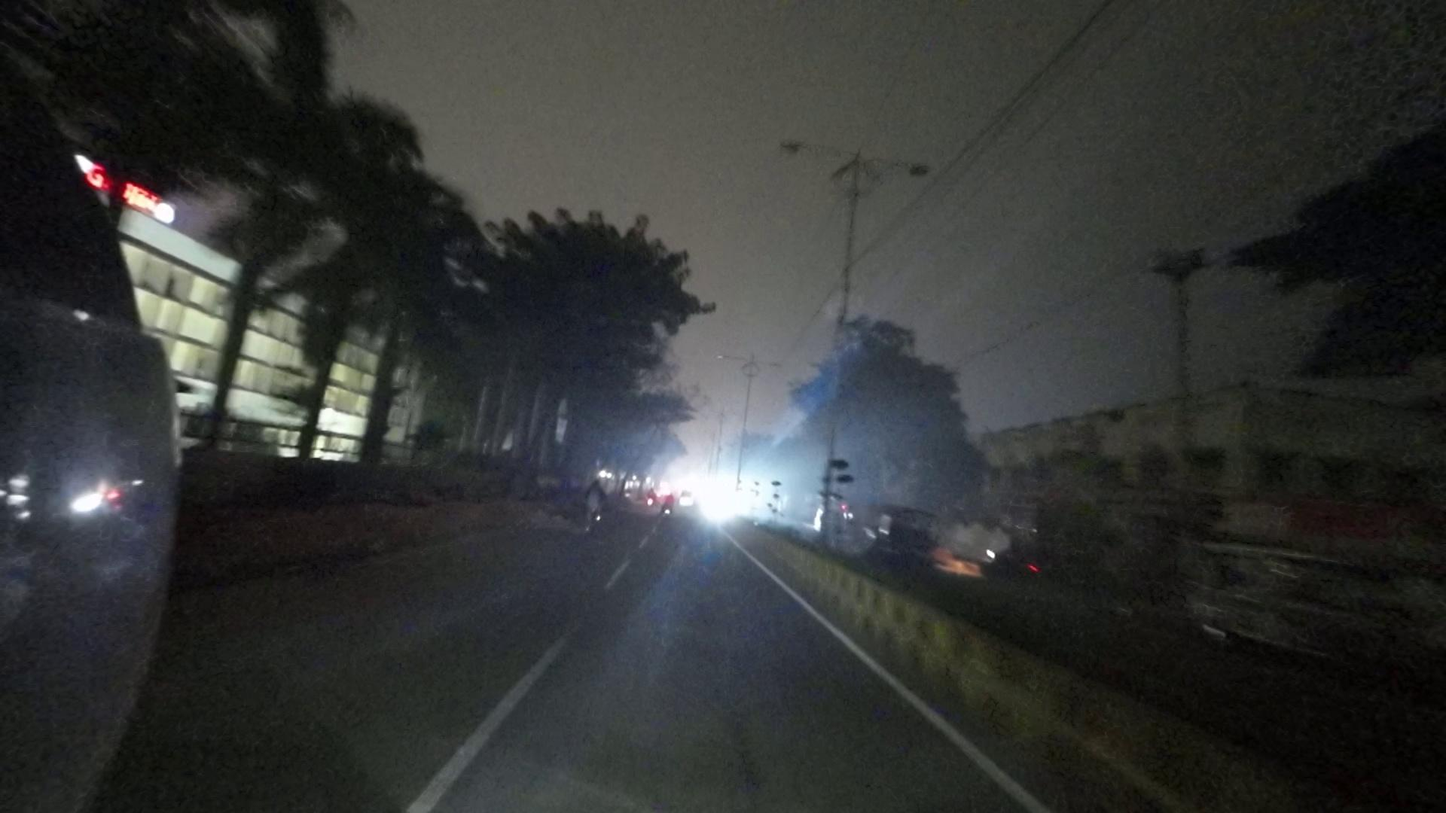streetlight: (860, 154, 934, 178), (780, 140, 855, 159)
